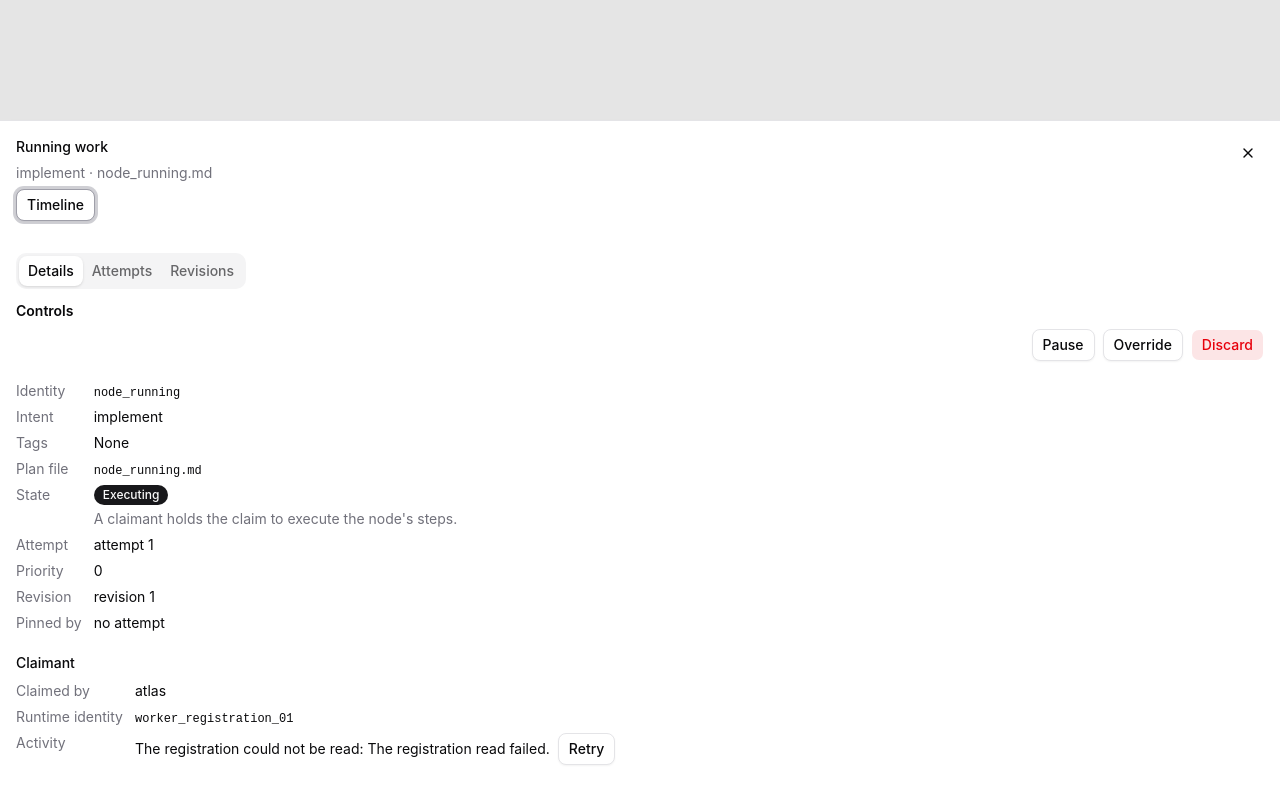
Test: NodeSheet › names a failed registration read and reads again on Retry
expect the text "The registration could not be read: The registration read failed." is shown: met, box [135,739,550,759]
Click the button "Retry" at [587, 749], box [558,733,615,765]
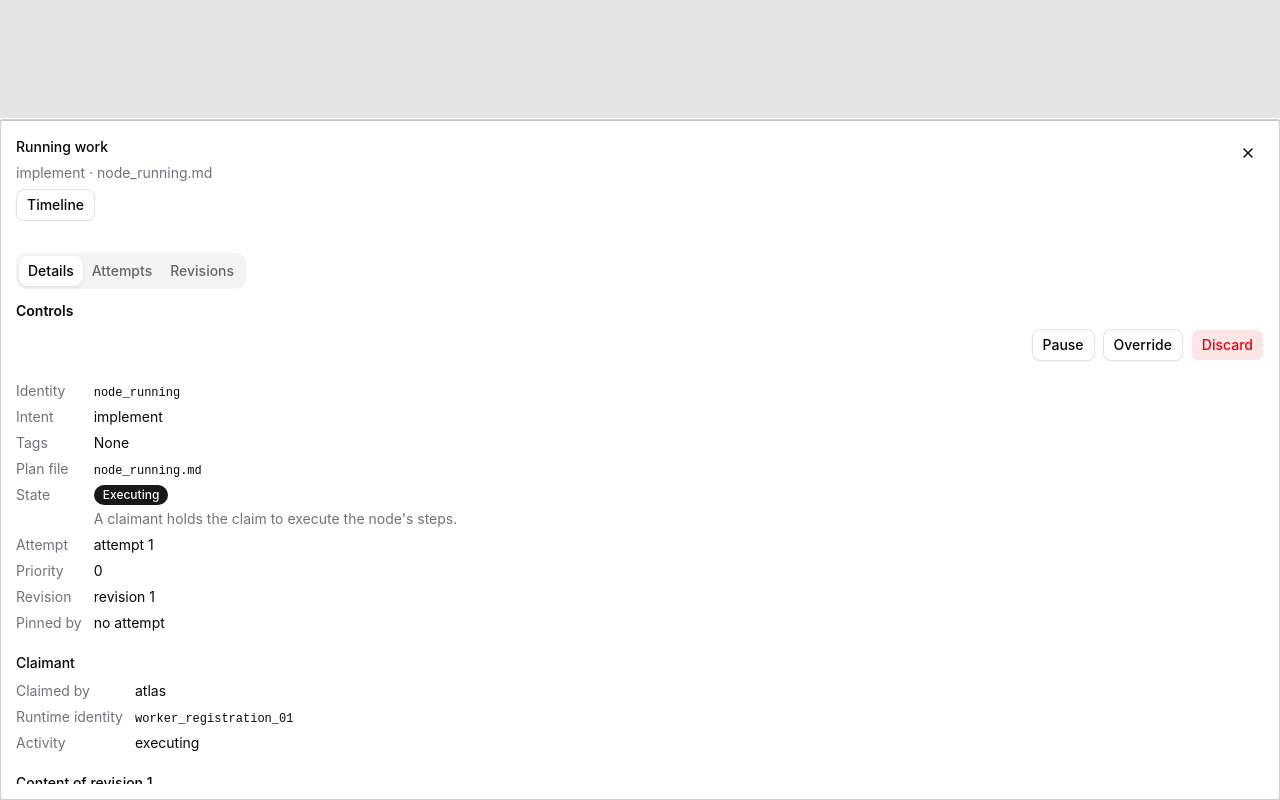
expect the text "executing" is shown: met, box [135,734,200,751]
